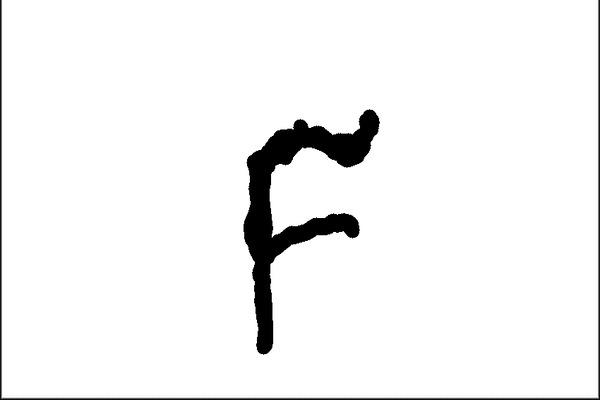F: (238, 104, 386, 357)
